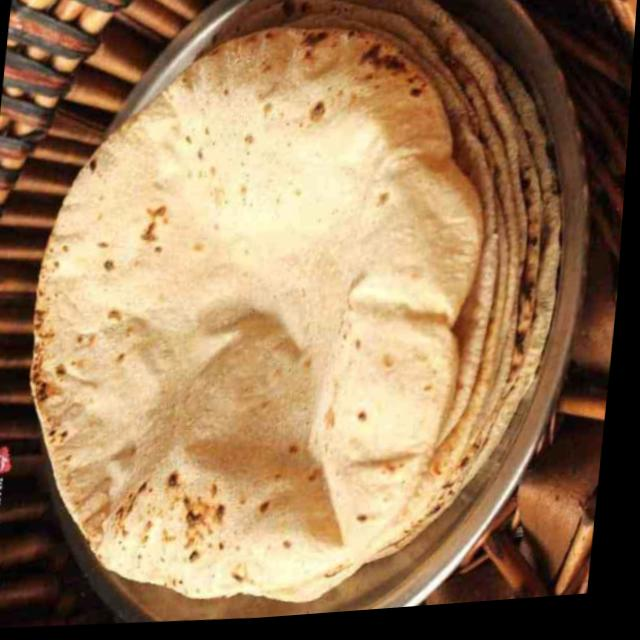CHAPATHI: (30, 21, 494, 607)
